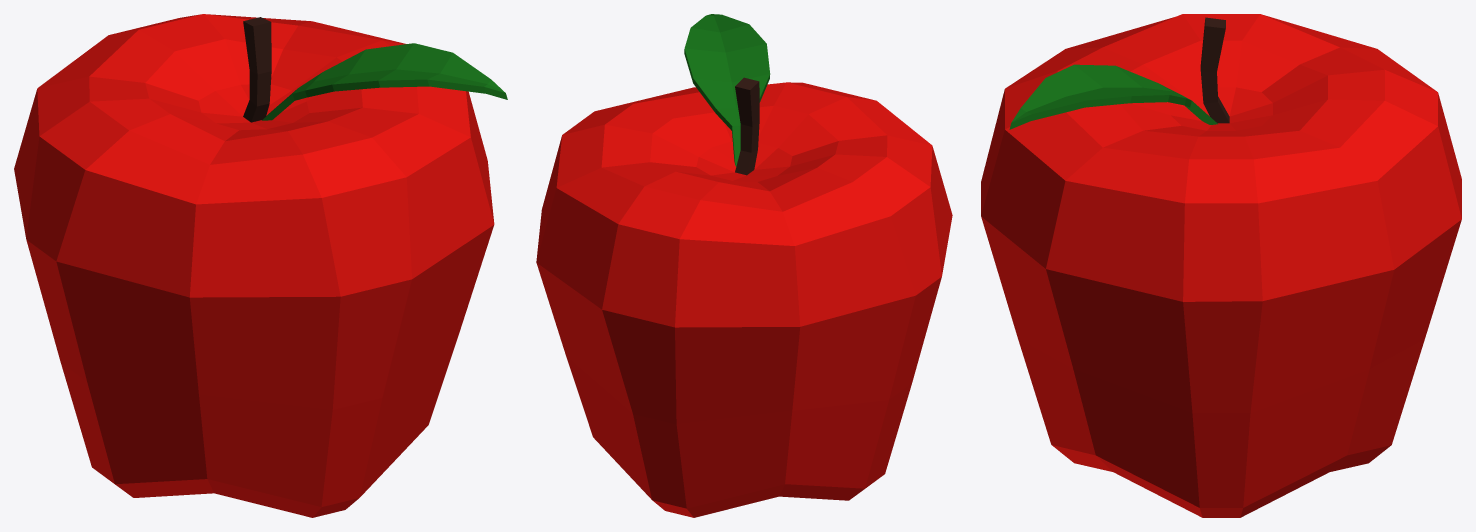
Rendered from apple.obj.
3 views of the same model, side by side, from view 1: azimuth 30°, elevation 25°; view 2: azimuth 150°, elevation 25°; view 3: azimuth 270°, elevation 25° (orthographic). The views are drawn at different scales.
Parts seen in each view (by area): view 1: Cube.026_Cube; view 2: Cube.026_Cube; view 3: Cube.026_Cube.
Part boxes in pixels (box(x1,y1,x2,y2)): Cube.026_Cube: box(14, 14, 507, 517); Cube.026_Cube: box(536, 14, 952, 517); Cube.026_Cube: box(981, 14, 1461, 517).
Bounding box in the file's own units: 9.96 × 9.84 × 9.88.
